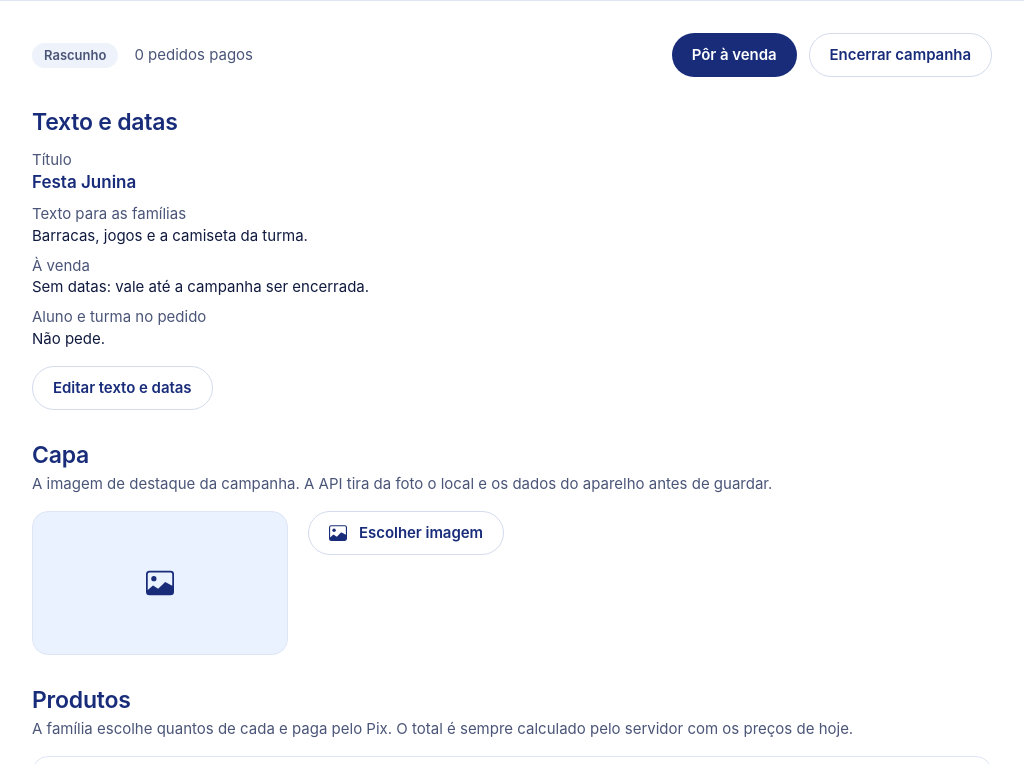
editor de uma campanha › rascunho: so oferece 'Pôr à venda' depois de confirmar; a API devolve a campanha a venda
Expected: the heading "Texto e datas" is shown, [32,108,178,136]
Click the button "Pôr à venda".
click(734, 55)  # box [672,33,796,77]
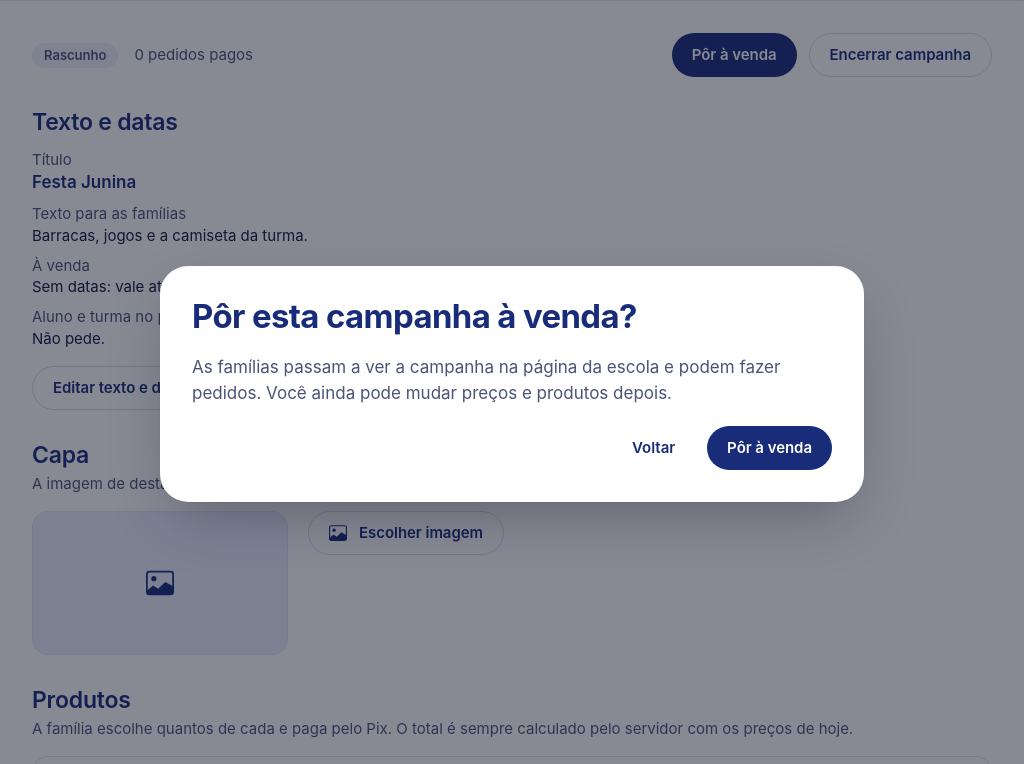
Click the button "Pôr à venda".
click(770, 448)  # box [707,426,832,470]
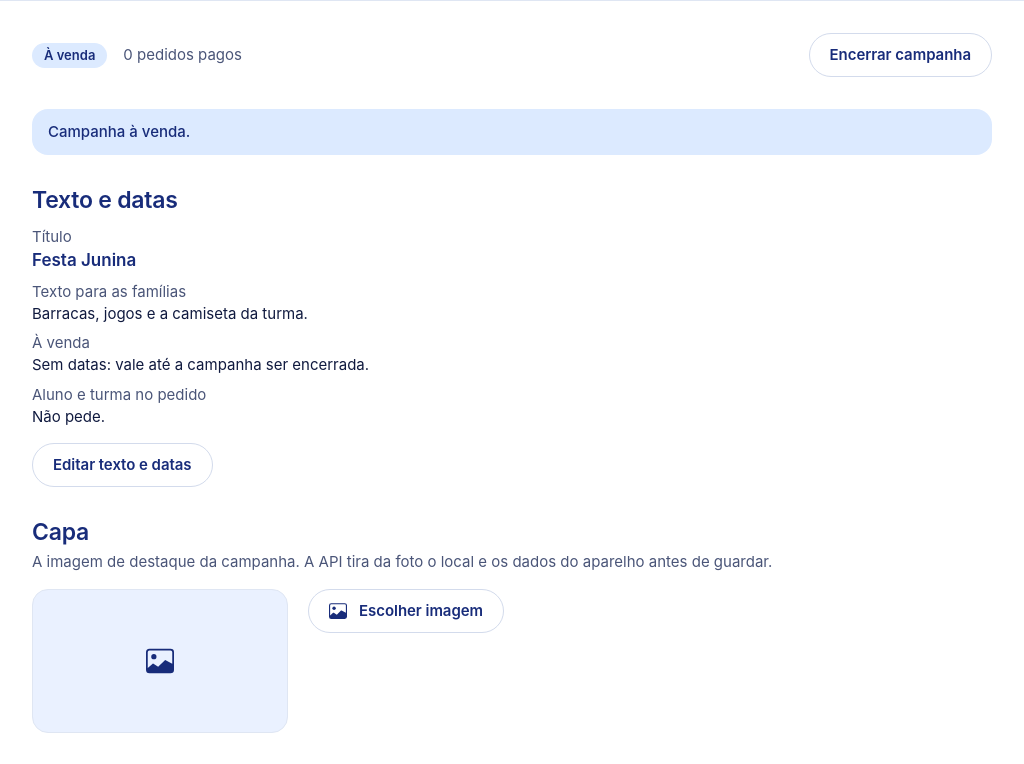
Expected: the message reads "Campanha à venda.", [48,122,190,141]
Expected: the button "Pôr à venda" is gone
